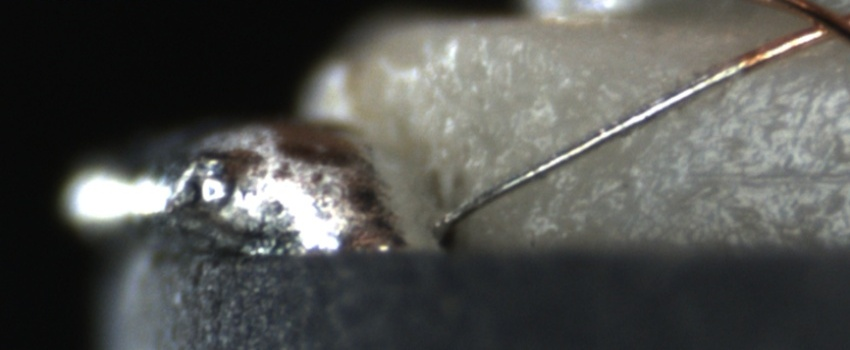CL: (788, 2, 850, 47)
DL: (600, 146, 850, 199)
TS: (445, 64, 742, 224)
